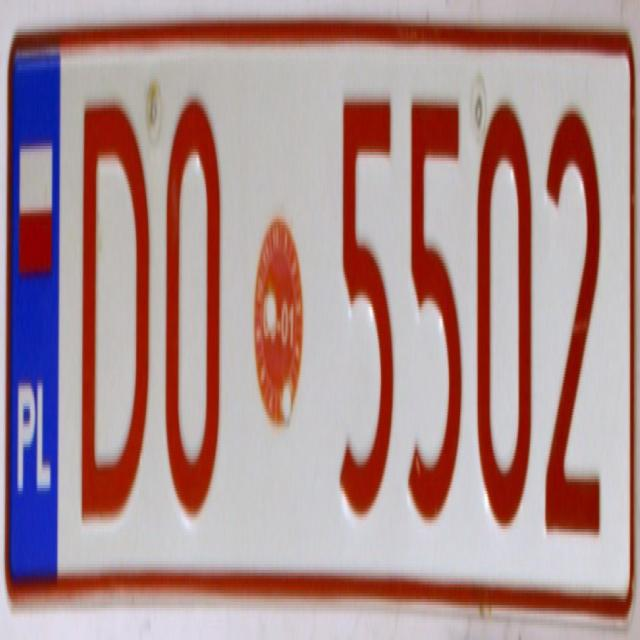pl_license_plate: (9, 47, 630, 599)
